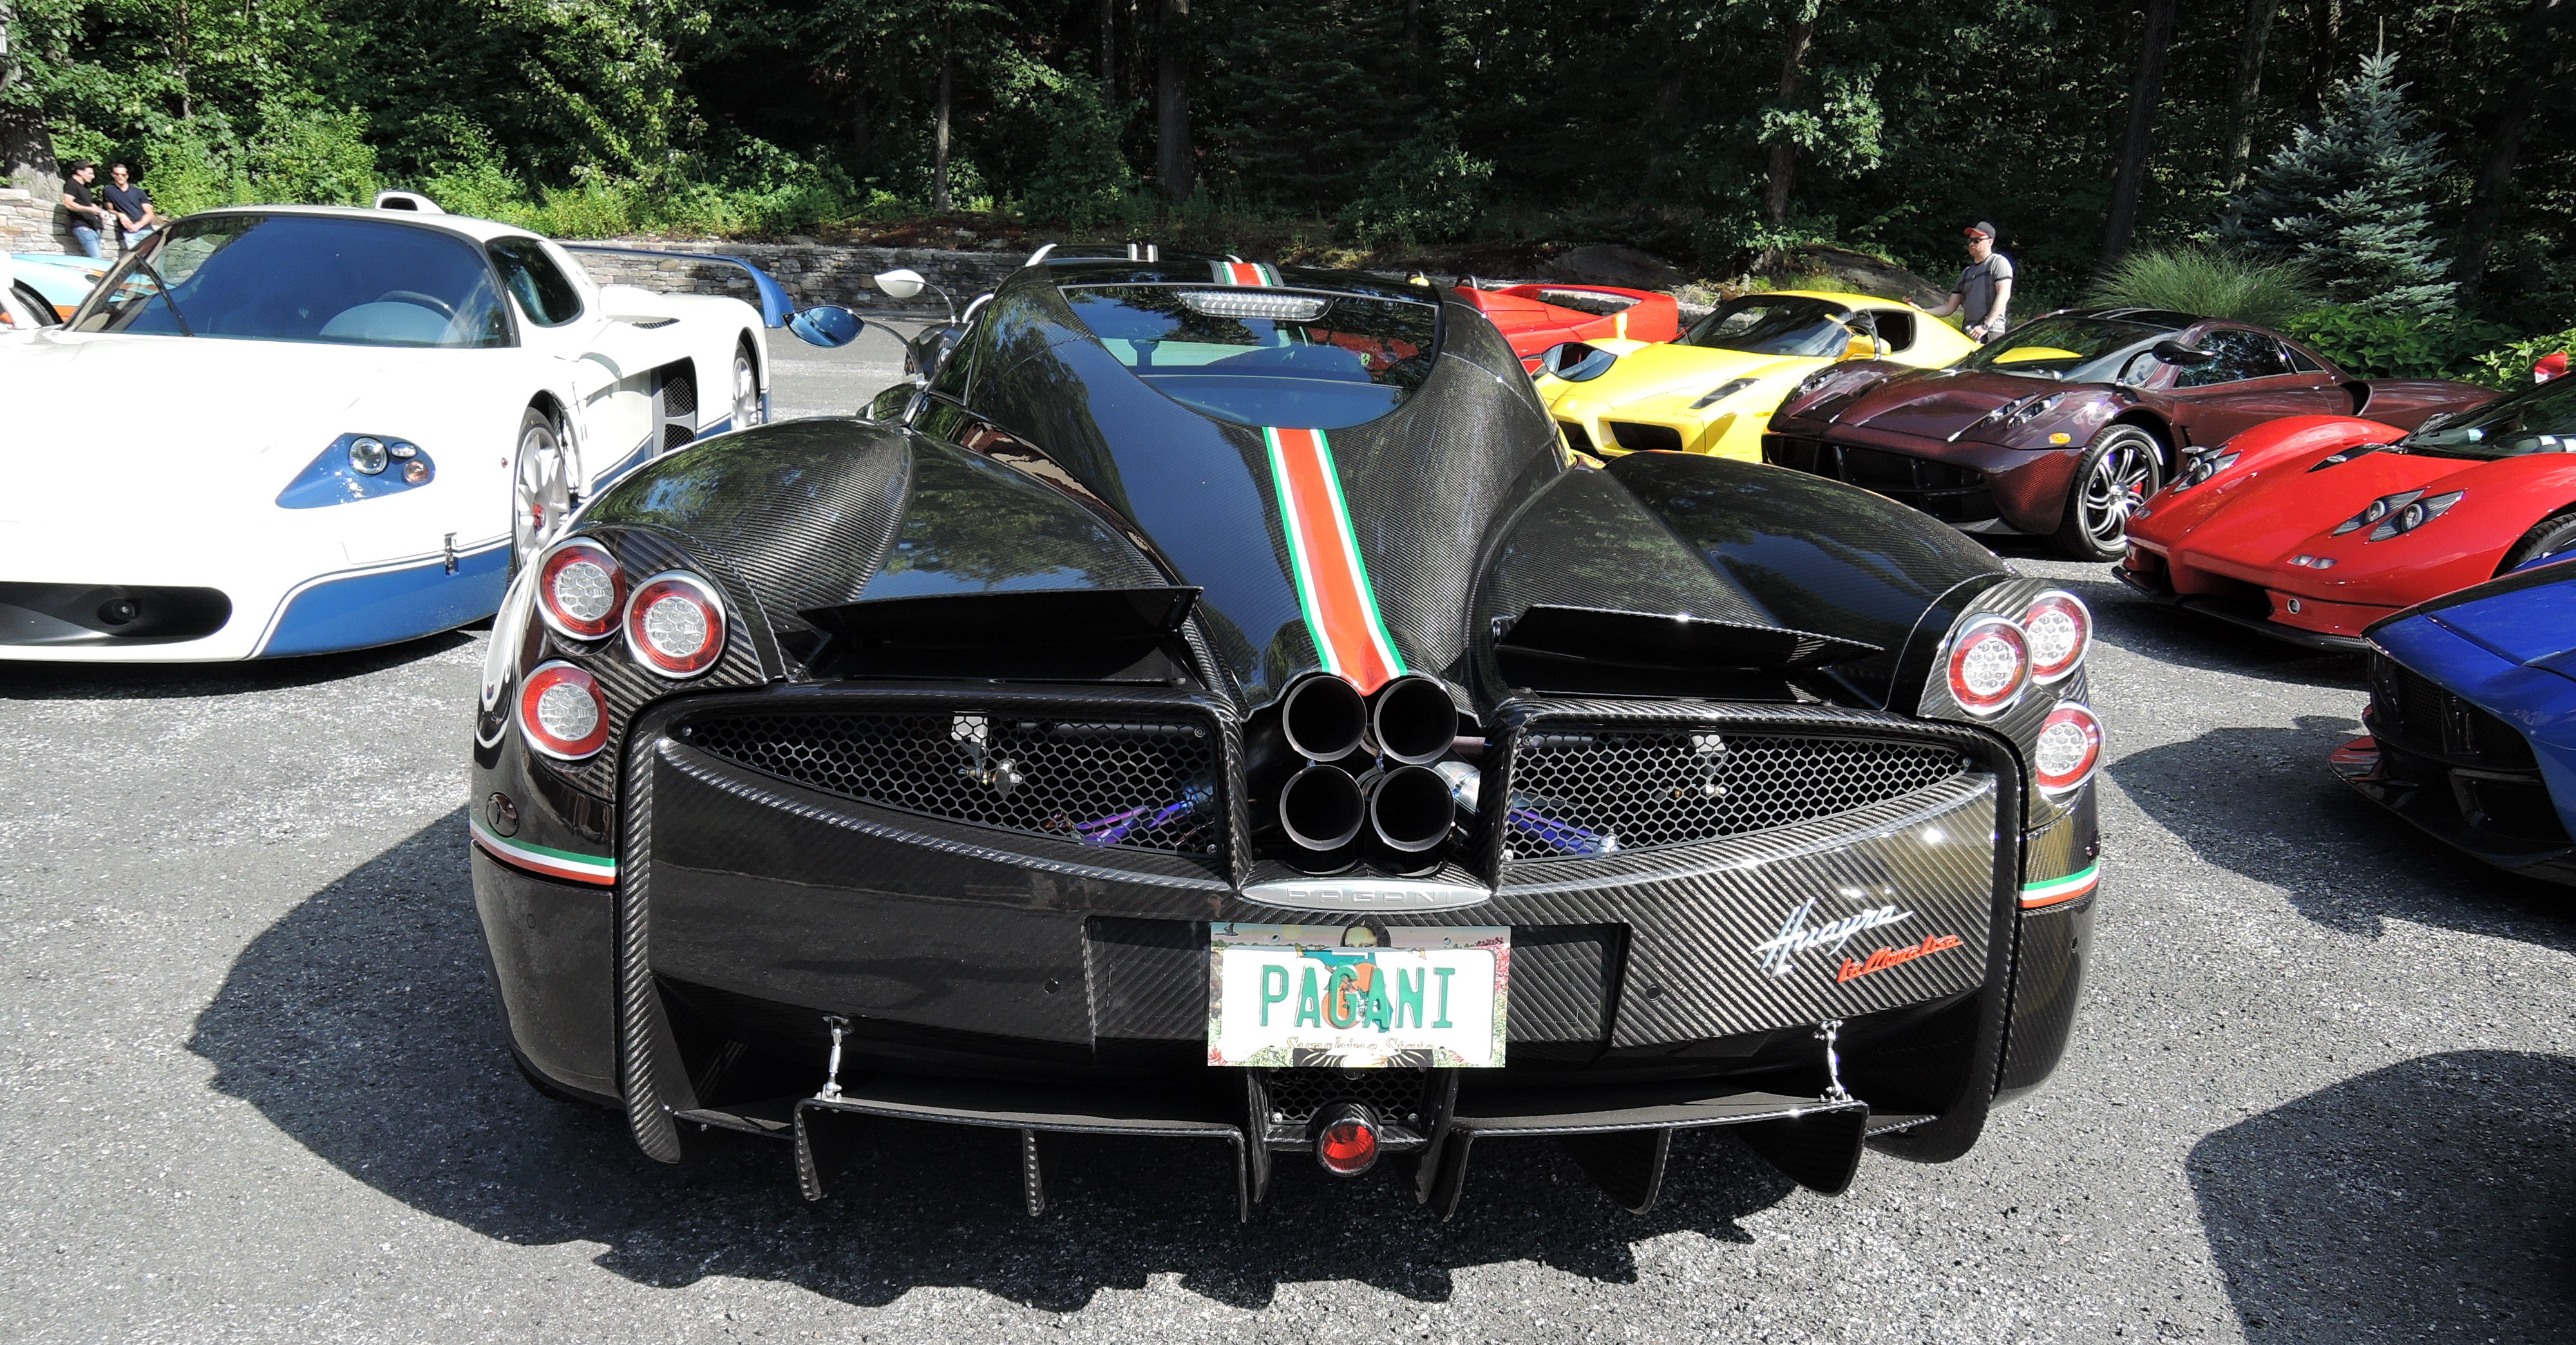license plate: (1196, 916, 1525, 1078)
